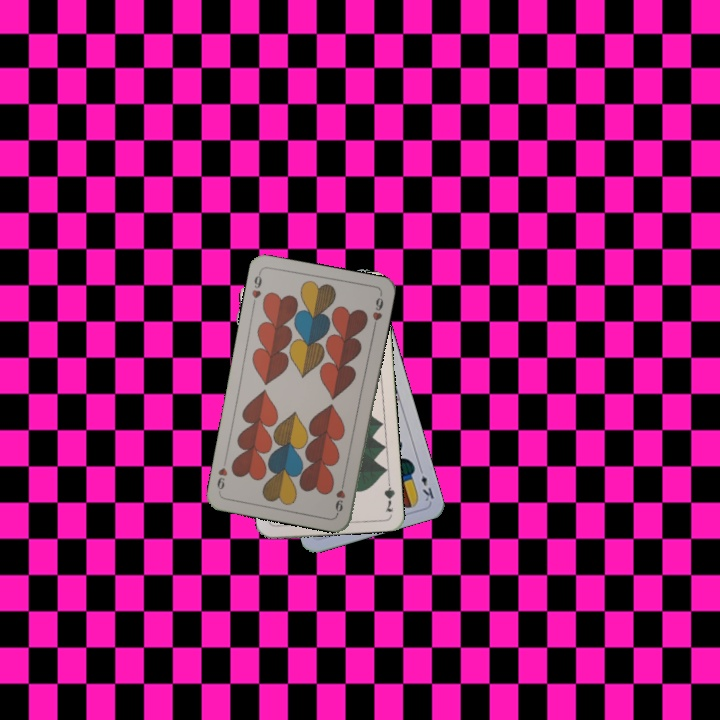EK: (415, 463, 437, 504)
G7: (380, 474, 397, 515)
H9: (248, 268, 265, 309), (331, 476, 348, 516)
